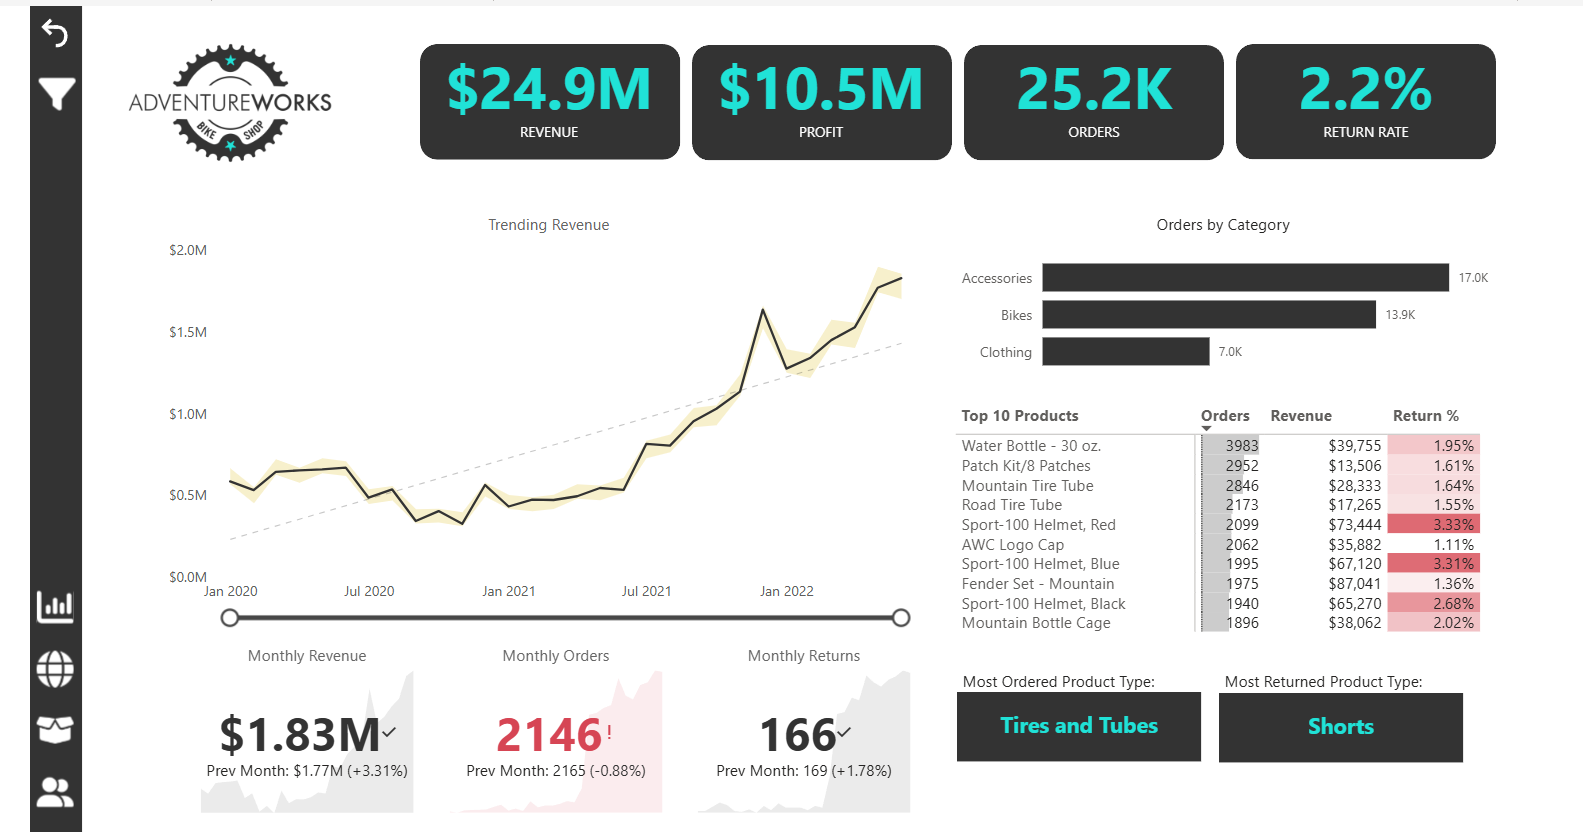

Layout of this report page (visuals, bound fields, positions):
{"tool":"powerbi","page":{"name":"Executive Dashboard","canvas":[1280,720],"ordinal":0},"visuals":[{"type":"card","fields":{"Values":["Measure Table.Total Revenue"]},"box":[336.2,1,224.8,150.2],"z":0,"group":"g2"},{"type":"group","id":"g1","title":"KPI Background","box":[337.1,33.3,930.4,100.8],"z":0,"group":"g3"},{"type":"shape","box":[337.1,33.6,225,100],"z":0,"group":"g1"},{"type":"actionButton","box":[1.8,499.5,58.8,40],"z":0,"group":"g4"},{"type":"textbox","box":[1028,570,226,34],"z":0},{"type":"group","id":"g2","title":"KPI Values","box":[336.2,1,931.3,150.2],"z":1000,"group":"g3"},{"type":"card","fields":{"Values":["Measure Table.Total Profit"]},"box":[571.7,1,224.8,150.2],"z":1000,"group":"g2"},{"type":"shape","box":[572.5,34.1,224.8,99.8],"z":1000,"group":"g1"},{"type":"textbox","box":[801.3,569.4,210.6,33.3],"z":1000},{"type":"actionButton","box":[1.8,606.1,58.8,40],"z":1000,"group":"g4"},{"type":"card","fields":{"Values":["Measure Table.Total Orders"]},"box":[807.2,1,224.8,150.2],"z":2000,"group":"g2"},{"type":"image","title":"AW Logo","box":[61,23.2,223.7,120.9],"z":2000},{"type":"shape","box":[807.6,34.4,224.8,99.8],"z":2000,"group":"g1"},{"type":"actionButton","box":[1.8,659.4,58.8,40],"z":2000,"group":"g4"},{"type":"shape","title":"Left Nav Background","box":[0,0,45.4,719.6],"z":3000},{"type":"card","fields":{"Values":["Measure Table.Return Rate"]},"box":[1042.7,1,224.8,150.2],"z":3000,"group":"g2"},{"type":"shape","box":[1042.7,33.3,224.8,99.8],"z":3000,"group":"g1"},{"type":"actionButton","box":[1.8,552.8,58.8,40],"z":3000,"group":"g4"},{"type":"group","id":"g3","title":"KPIs","box":[336.2,1,931.3,150.2],"z":4000},{"type":"lineChart","title":"Trending Revenue","fields":{"Y":["Measure Table.Total Revenue"],"Category":["Calendar Lookup.Start of Month"]},"box":[114.6,180,667.2,360],"z":5000},{"type":"kpi","title":"Monthly Revenue","fields":{"Indicator":["Measure Table.Total Revenue"],"TrendLine":["Calendar Lookup.Date Hierarchy.Start of Month"],"Goal":["Measure Table.Previous Month Revenue"]},"box":[142.2,552.4,193.9,150.4],"z":6000},{"type":"kpi","title":"Monthly Orders","fields":{"TrendLine":["Calendar Lookup.Date Hierarchy.Start of Month"],"Indicator":["Measure Table.Total Orders"],"Goal":["Measure Table.Previous Month Orders"]},"box":[357.5,552.5,193.8,150],"z":7000},{"type":"kpi","title":"Monthly Returns","fields":{"TrendLine":["Calendar Lookup.Date Hierarchy.Start of Month"],"Indicator":["Measure Table.Total Returns"],"Goal":["Measure Table.Previous Month Returns"]},"box":[572.5,552.5,193.8,150],"z":8000},{"type":"clusteredBarChart","title":"Orders by Category","fields":{"Category":["Product Categories Lookup.CategoryName"],"Y":["Measure Table.Total Orders"]},"box":[795,180,472.5,150],"z":9000},{"type":"pivotTable","fields":{"Rows":["Product Lookup.ProductName"],"Values":["Measure Table.Total Orders","Measure Table.Total Revenue","Measure Table.Return Rate"]},"box":[795,340,465,221],"z":10000},{"type":"card","fields":{"Values":["Min(Product Subcategories Lookup.SubcategoryName)"]},"box":[801,593,211,60],"z":11000},{"type":"card","fields":{"Values":["Min(Product Subcategories Lookup.SubcategoryName)"]},"box":[1028,594,211,60],"z":12000},{"type":"actionButton","box":[3.9,6,45.4,34.3],"z":13000},{"type":"group","id":"g4","title":"Navigation Icons","box":[1.8,499.5,58.8,199.8],"z":13500},{"type":"actionButton","box":[3.7,56.4,45.8,40],"z":14000}]}

Visuals, with their boxes on the page's 1280x720 design canvas (x1, y1, x2, y2). These are canvas units, not pixel positions in the 1583x832 screenshot, which may show the page scaled, cropped or inside an application window:
card - Measure Table.Total Revenue: 336/1/561/151
"KPI Background" group: 337/33/1268/134
shape: 337/34/562/134
actionButton: 2/500/61/540
textbox: 1028/570/1254/604
"KPI Values" group: 336/1/1268/151
card - Measure Table.Total Profit: 572/1/796/151
shape: 572/34/797/134
textbox: 801/569/1012/603
actionButton: 2/606/61/646
card - Measure Table.Total Orders: 807/1/1032/151
"AW Logo" image: 61/23/285/144
shape: 808/34/1032/134
actionButton: 2/659/61/699
"Left Nav Background" shape: 0/0/45/720
card - Measure Table.Return Rate: 1043/1/1268/151
shape: 1043/33/1268/133
actionButton: 2/553/61/593
"KPIs" group: 336/1/1268/151
"Trending Revenue" lineChart: 115/180/782/540
"Monthly Revenue" kpi: 142/552/336/703
"Monthly Orders" kpi: 358/552/551/702
"Monthly Returns" kpi: 572/552/766/702
"Orders by Category" clusteredBarChart: 795/180/1268/330
pivotTable - Product Lookup.ProductName x Measure Table.Total Orders: 795/340/1260/561
card - Min(Product Subcategories Lookup.SubcategoryName): 801/593/1012/653
card - Min(Product Subcategories Lookup.SubcategoryName): 1028/594/1239/654
actionButton: 4/6/49/40
"Navigation Icons" group: 2/500/61/699
actionButton: 4/56/50/96
